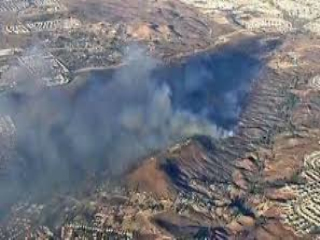smoke: (1, 48, 284, 193)
